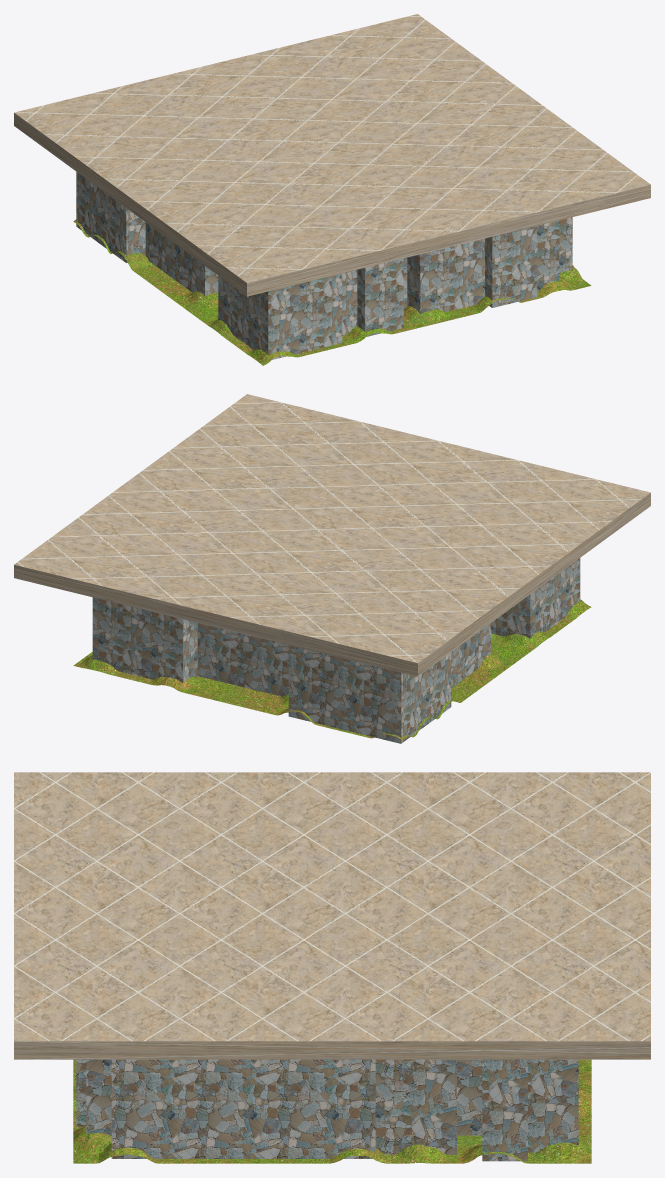
File: map5.fbx
The picture shows the model from 3 angles, top to bottom: view 1: azimuth 30°, elevation 25°; view 2: azimuth 150°, elevation 25°; view 3: azimuth 270°, elevation 25°; orthographic projection. The views are drawn at different scales.
Visible parts, largest first — view 1: Ciel, Walls, Dirt; view 2: Ciel, Walls, Dirt; view 3: Ciel, Walls, Dirt.
Part boxes in pixels (x1,y1,x2,y2): Ciel: (14,14,650,296); Walls: (76,172,572,359); Dirt: (73,219,591,365); Ciel: (14,394,650,676); Walls: (92,558,580,743); Dirt: (73,599,591,740); Ciel: (14,772,650,1059); Walls: (76,1059,578,1161); Dirt: (73,1059,591,1163).
Bounding box in the file's own units: 8051 × 2054 × 8051.
